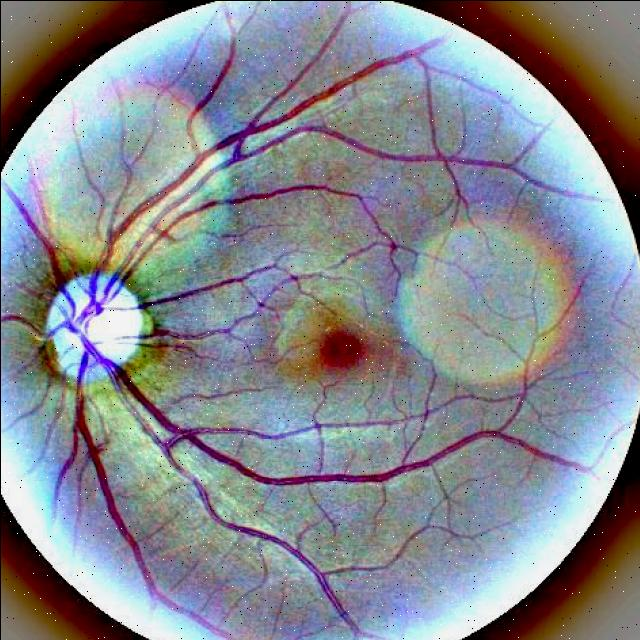Macula: (300, 300, 391, 389)
Nerves: (44, 306, 259, 640), (85, 91, 329, 303), (91, 181, 399, 316)
Optic Disk: (14, 250, 179, 403)
